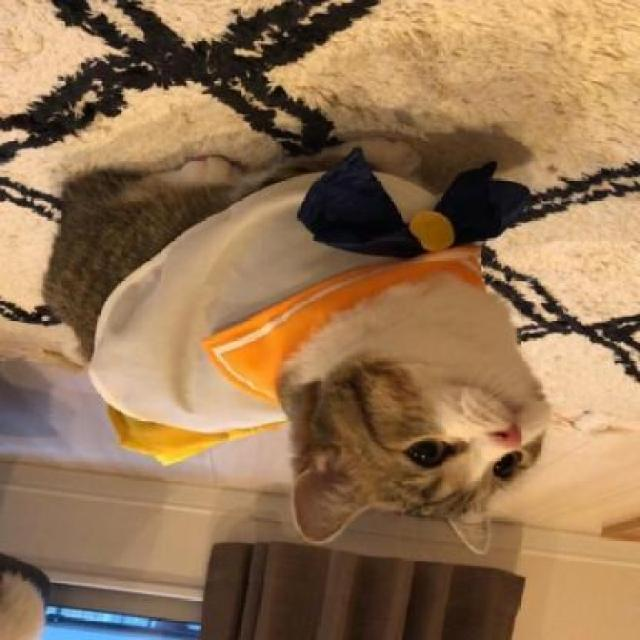cat: (38, 142, 590, 564)
